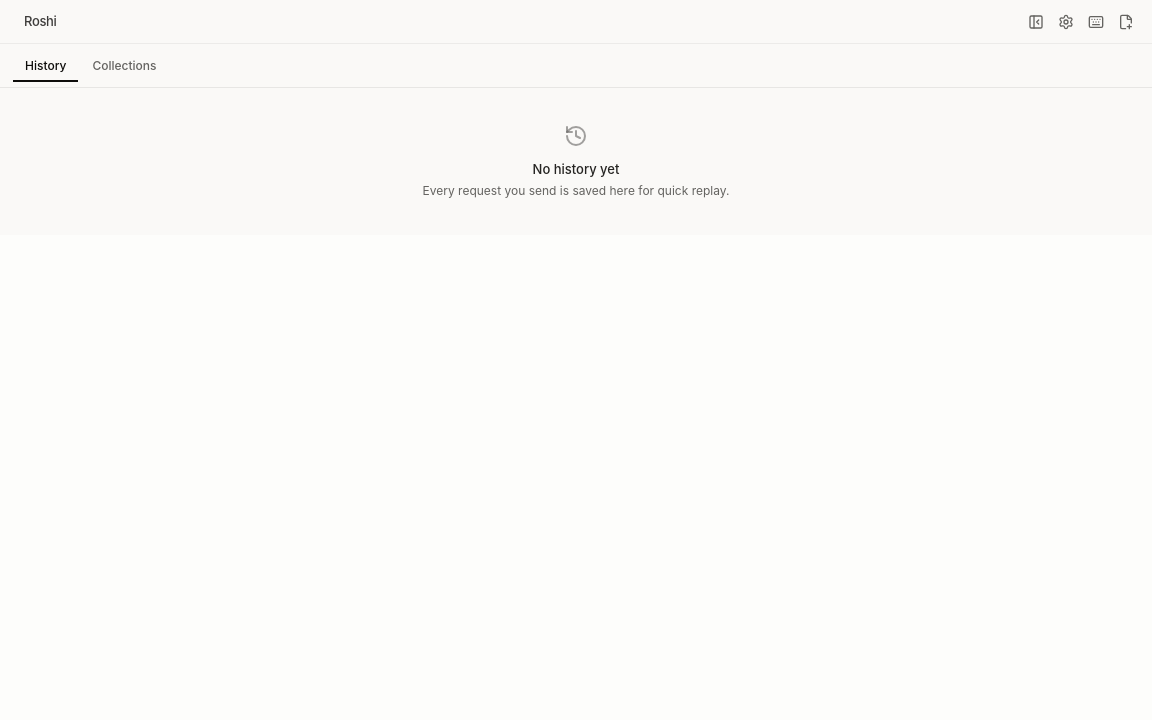
Sidebar › opens the discard dialog when there are unsaved changes
This screenshot has width=1152, height=720.
What coordinates should you click on to do the following:
click the button named "New request"
I would click on:
 (1126, 22)
Its box is [1112, 8, 1140, 36].
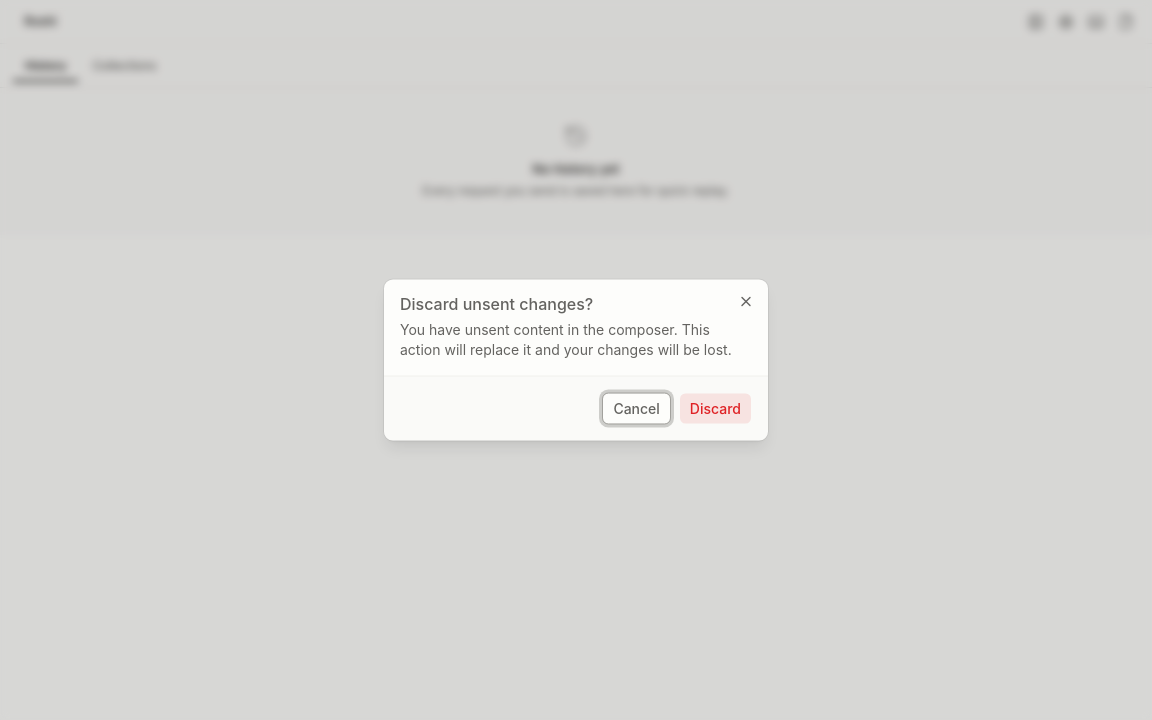
expect the heading "Discard unsent changes?" is shown: met, box [400, 294, 593, 314]
